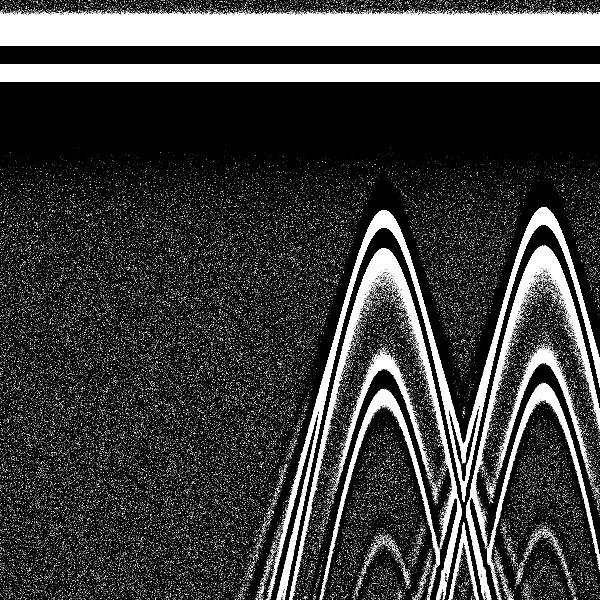pipe: (331, 7, 430, 300), (495, 7, 590, 299)
